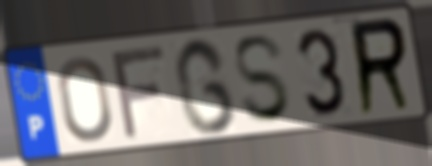3: (294, 24, 349, 121)
F: (108, 41, 169, 144)
G: (171, 34, 239, 138)
O: (54, 54, 115, 146)
R: (348, 14, 417, 120)
S: (230, 31, 295, 127)
